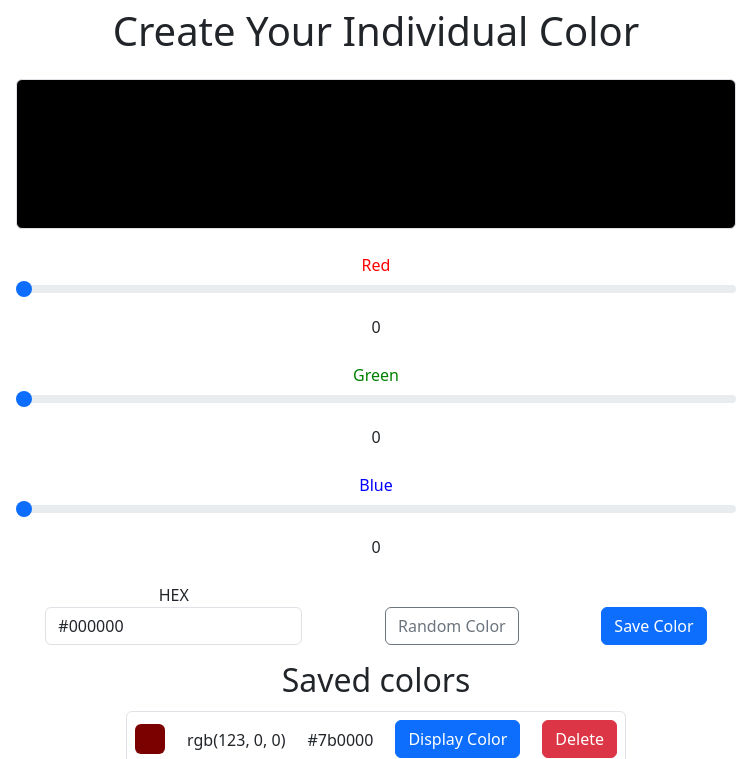
Test: It should remove after clicking the Delete button
This screenshot has width=753, height=759.
Click the button "Delete" at coordinates (580, 739), box [542,720,617,758]
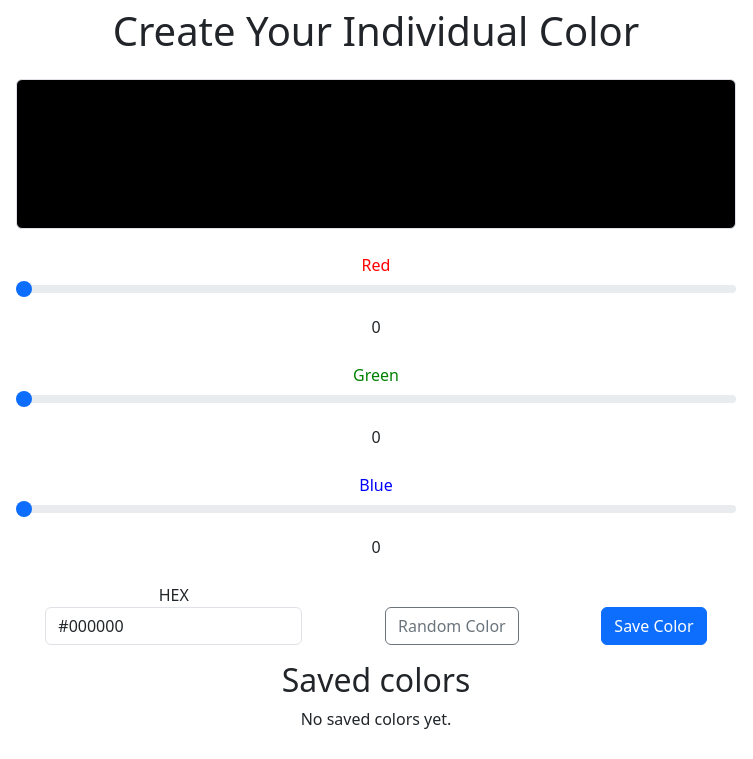
Check: no list items are shown
